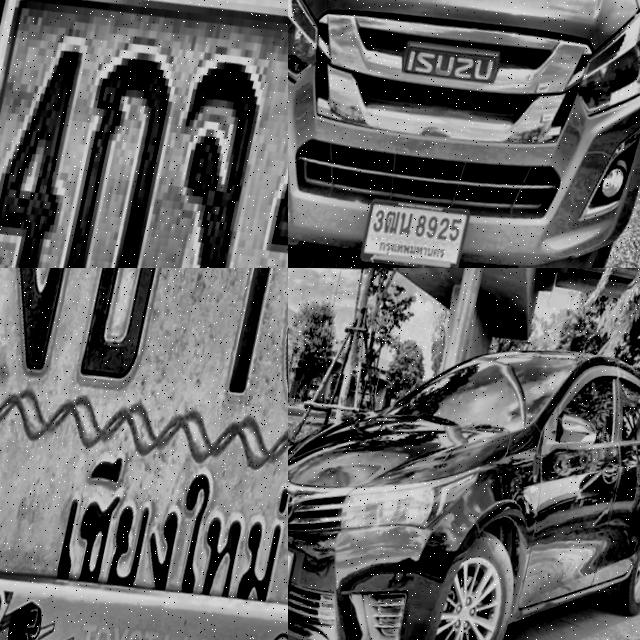license-plate: (0, 268, 288, 640), (0, 0, 288, 268), (356, 192, 473, 268)
